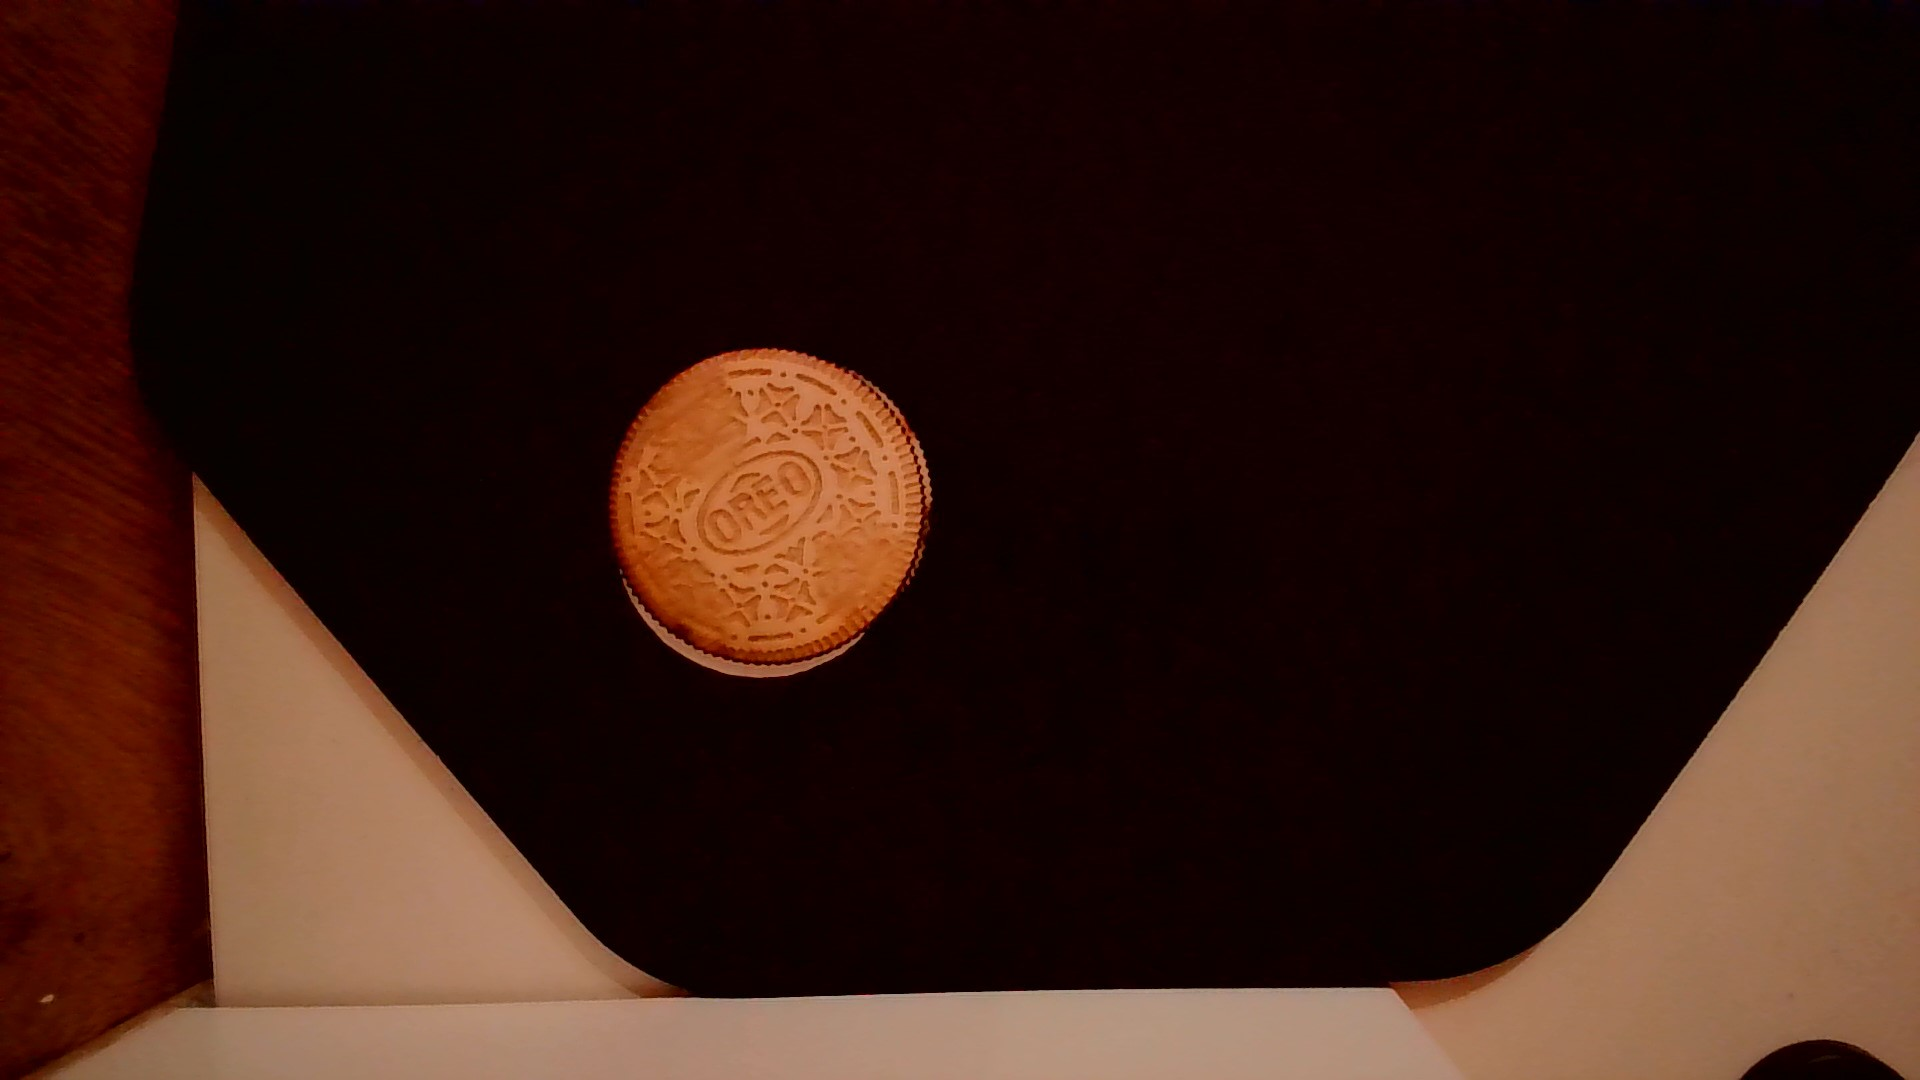Décalé: (611, 567, 874, 687)
Effacé: (620, 524, 729, 642), (620, 357, 735, 469), (819, 534, 915, 640)
Oréo: (596, 342, 938, 684)
